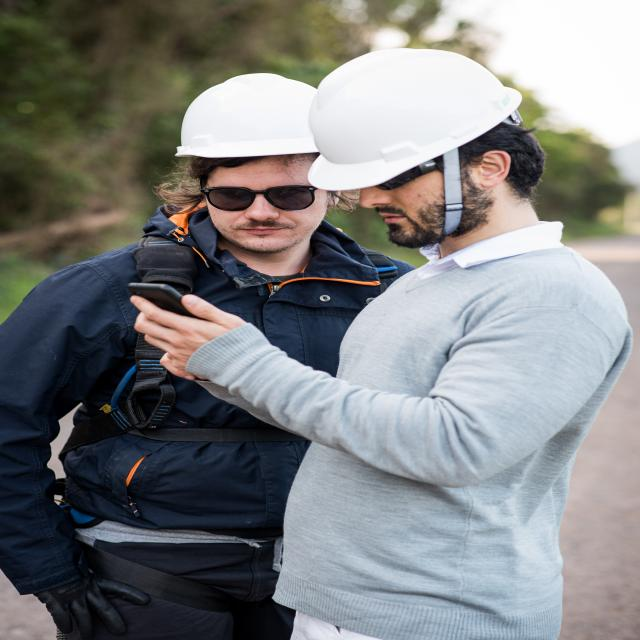capacete: (303, 47, 524, 193), (173, 72, 325, 160)
corda de vida: (34, 229, 405, 626)
luva: (28, 567, 153, 640)
